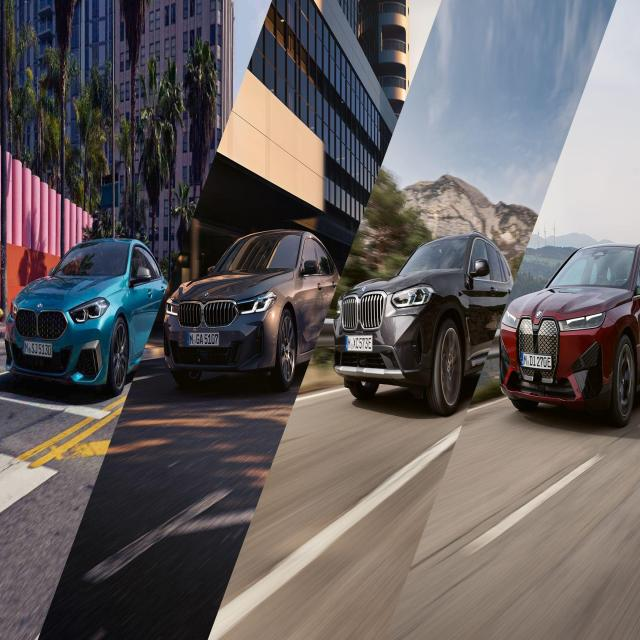cars17: (334, 237, 507, 413), (167, 225, 332, 396), (8, 237, 164, 397)
cars18: (510, 248, 640, 432)
